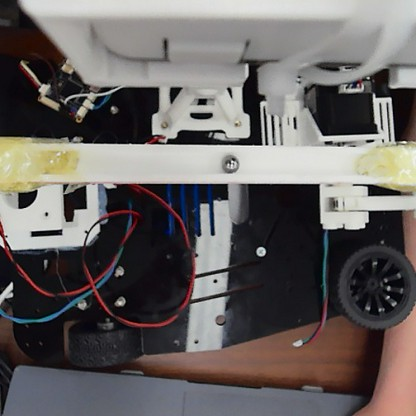ironball: (219, 153, 239, 175)
